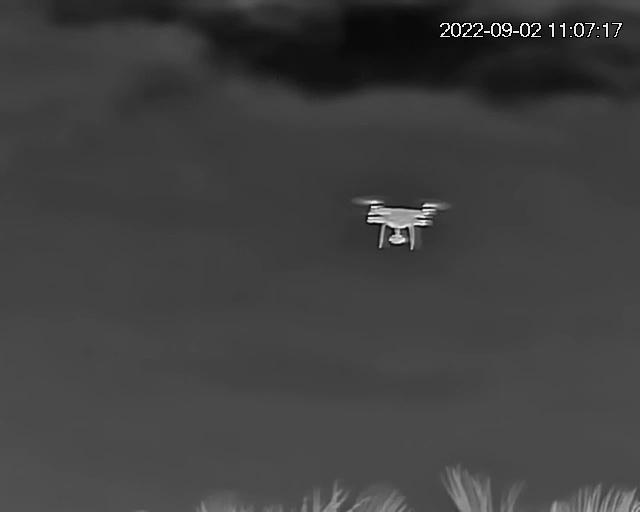DJI-Phantom: (357, 190, 443, 255)
